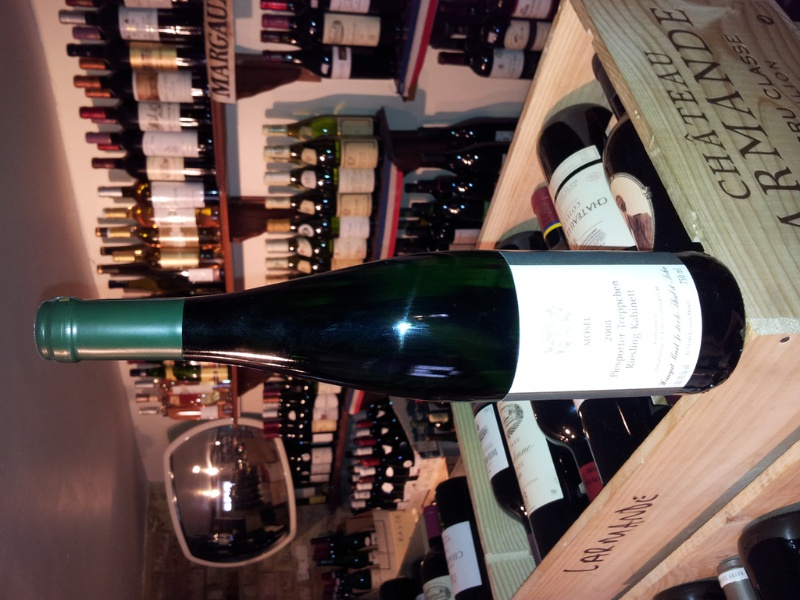wine: (26, 1, 799, 599), (28, 246, 752, 405)
